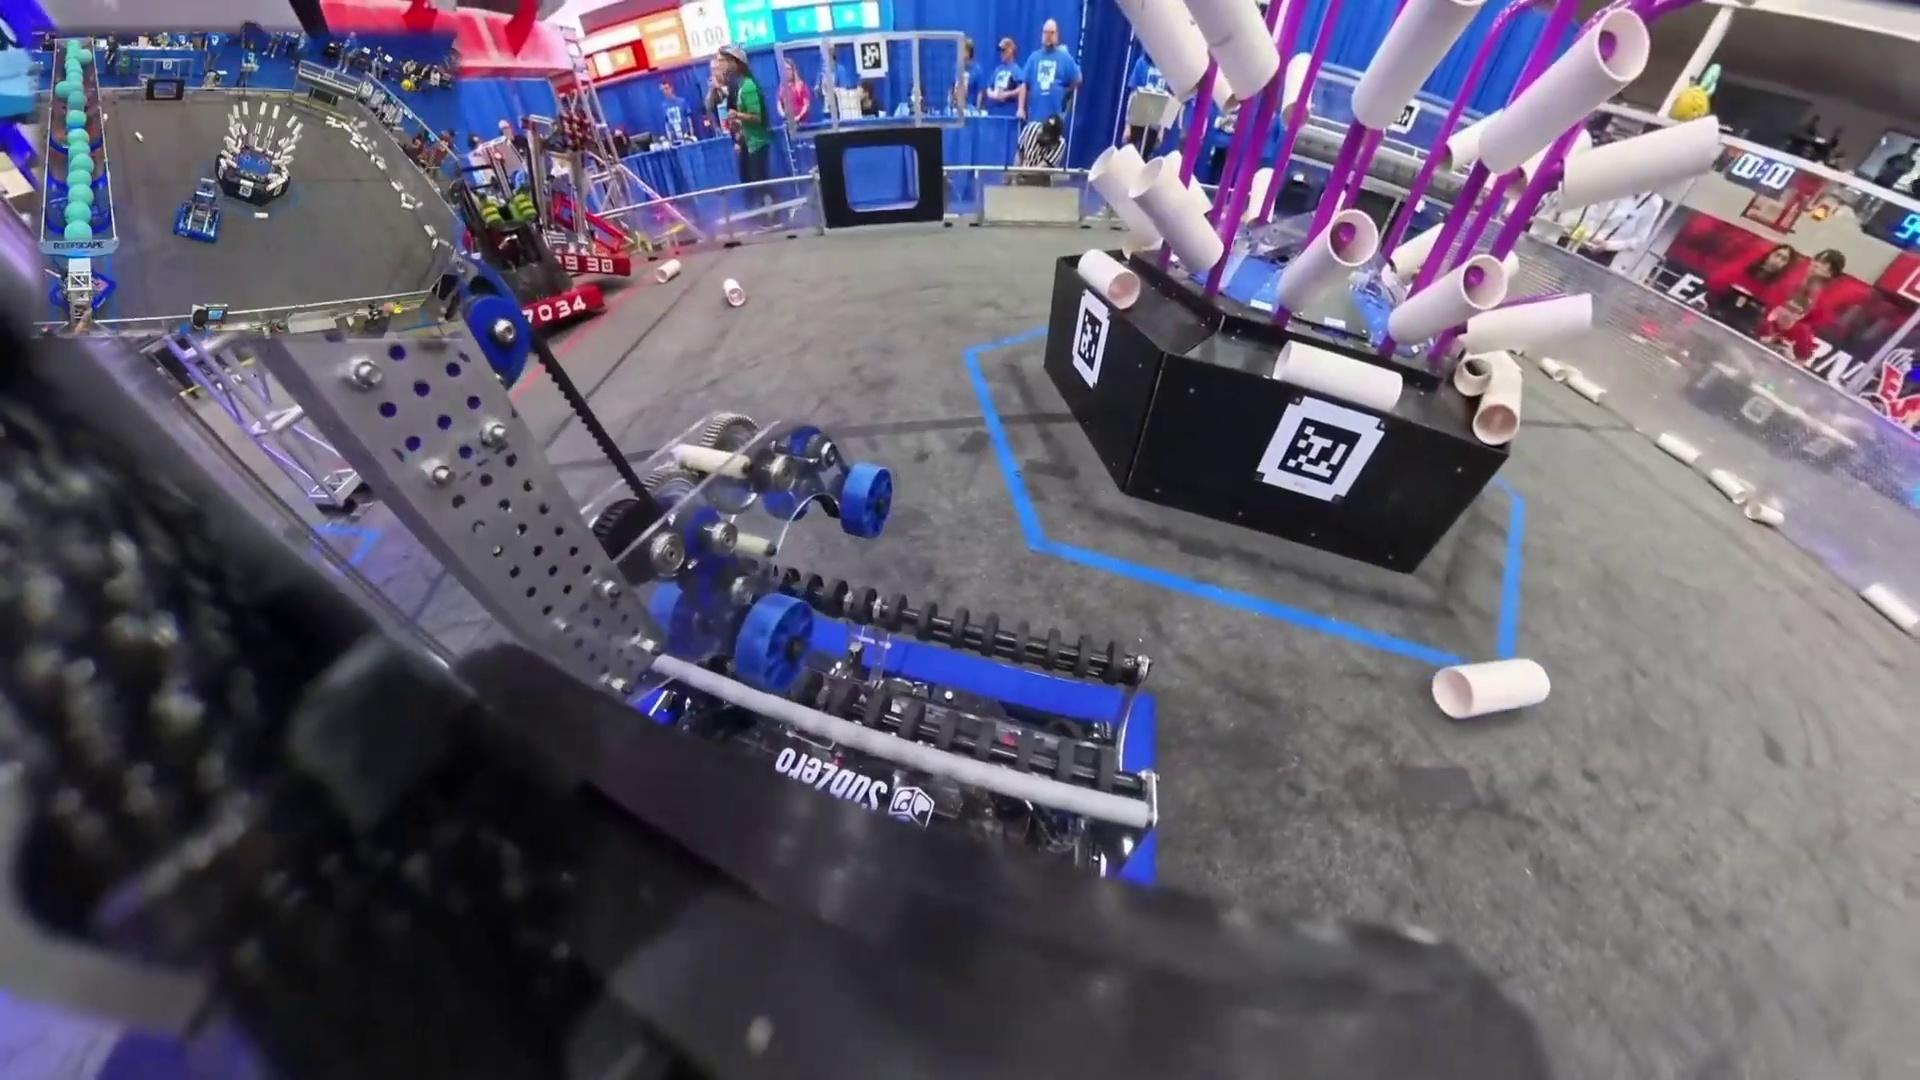robot: (460, 111, 634, 281), (455, 177, 605, 332), (173, 174, 227, 248), (53, 266, 119, 318)
